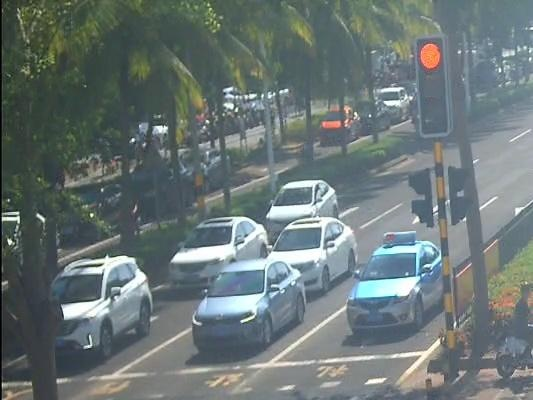red: (417, 43, 445, 72)
